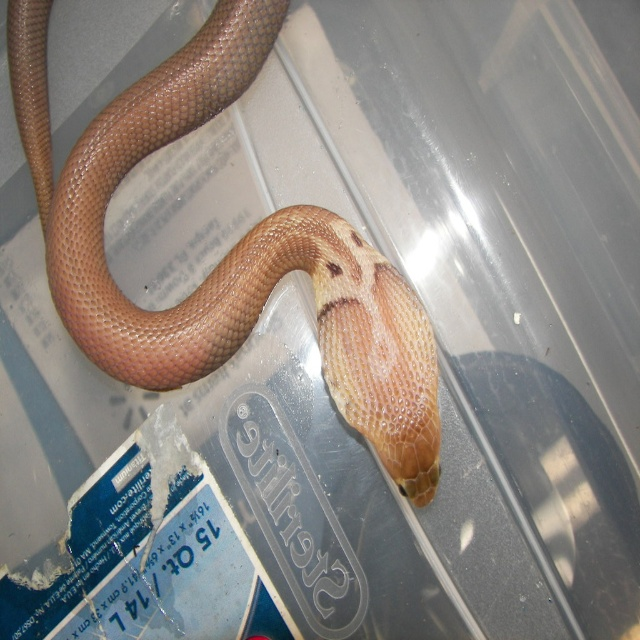Snake: (8, 0, 441, 509)
